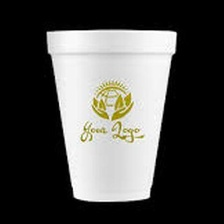paper_cup: (38, 22, 182, 206)
